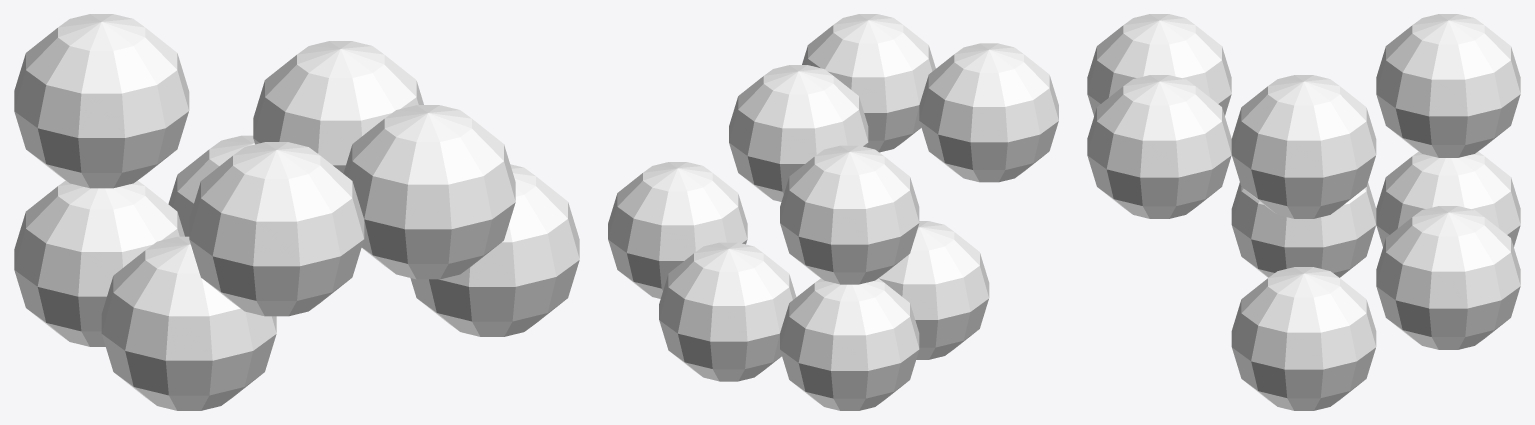
File: smoke.glb
3 renders of one model, left to right at view 1: azimuth 30°, elevation 25°; view 2: azimuth 150°, elevation 25°; view 3: azimuth 270°, elevation 25°, orthographic. The views are drawn at different scales.
Visible parts, largest first — view 1: sphere (×8); view 2: sphere (×8); view 3: sphere (×8).
Boxes of the visible parts, <box> form: sphere (×8): <box>14,14,579,410</box>; sphere (×8): <box>608,14,1058,410</box>; sphere (×8): <box>1087,14,1520,410</box>.
Size of the model in its own units: 3 by 2 by 3.
1 material, 1 textured.
